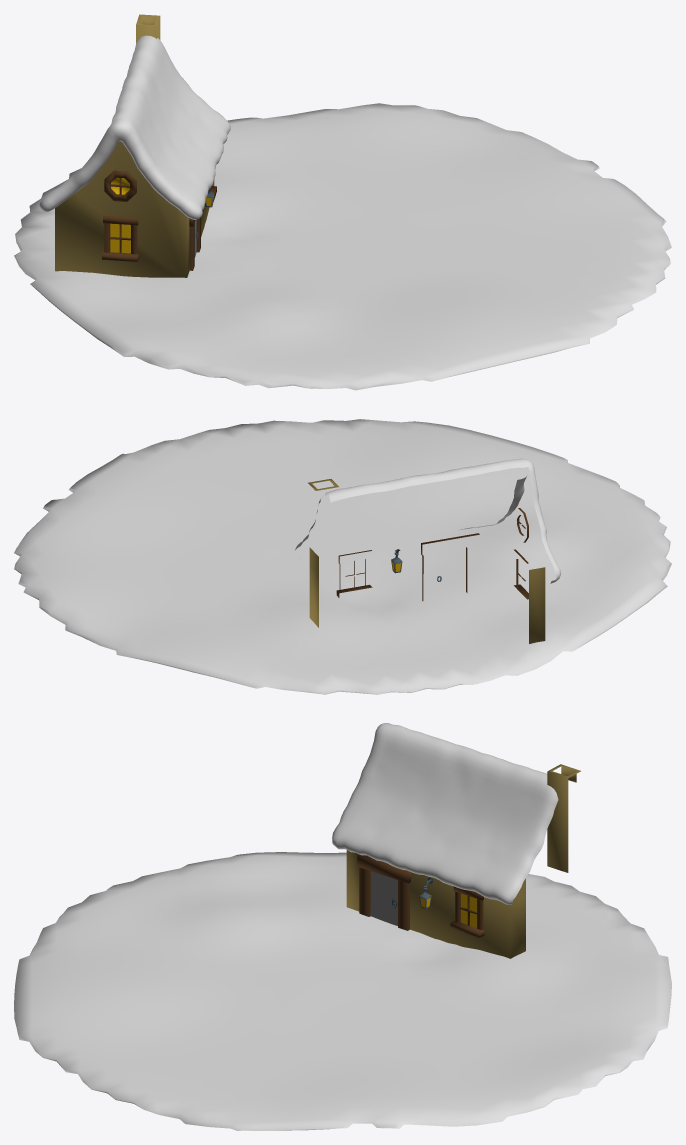
File: xmas.glb
3 views of the same model, one above another, from view 1: azimuth 30°, elevation 25°; view 2: azimuth 150°, elevation 25°; view 3: azimuth 270°, elevation 25° (orthographic). The views are drawn at different scales.
Parts seen in each view (by area): view 1: Ground, House; view 2: Ground, House; view 3: Ground, House.
Part boxes in pixels (box(x1,y1,x2,y2)): Ground: box(14, 103, 671, 390); House: box(39, 14, 230, 277); Ground: box(14, 419, 671, 694); House: box(295, 458, 560, 643); Ground: box(14, 852, 671, 1130); House: box(332, 723, 580, 958).
Size of the model in its own units: 21.44 by 6.54 by 21.5.
